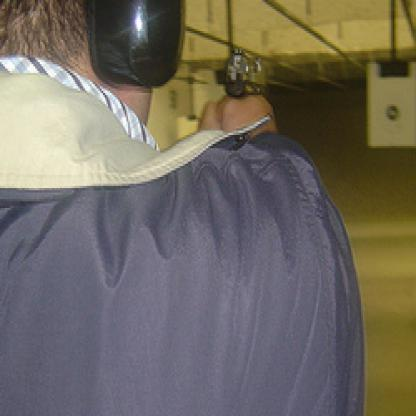gun: (211, 47, 273, 120)
